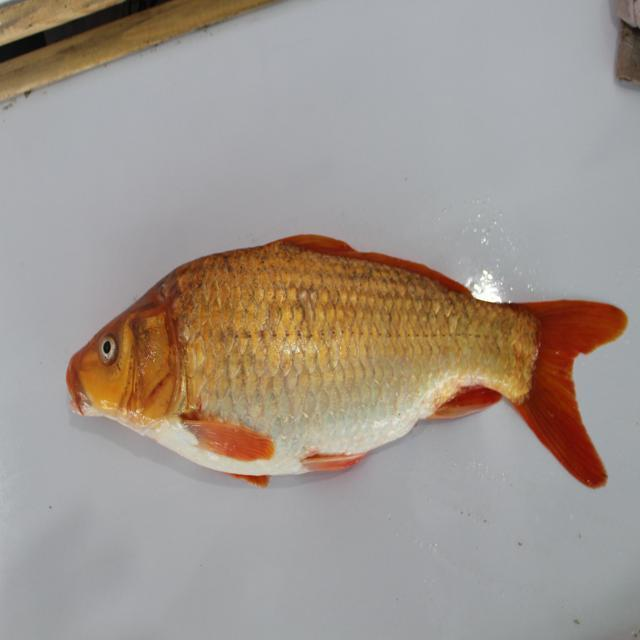Gold Fish: (77, 230, 613, 491)
